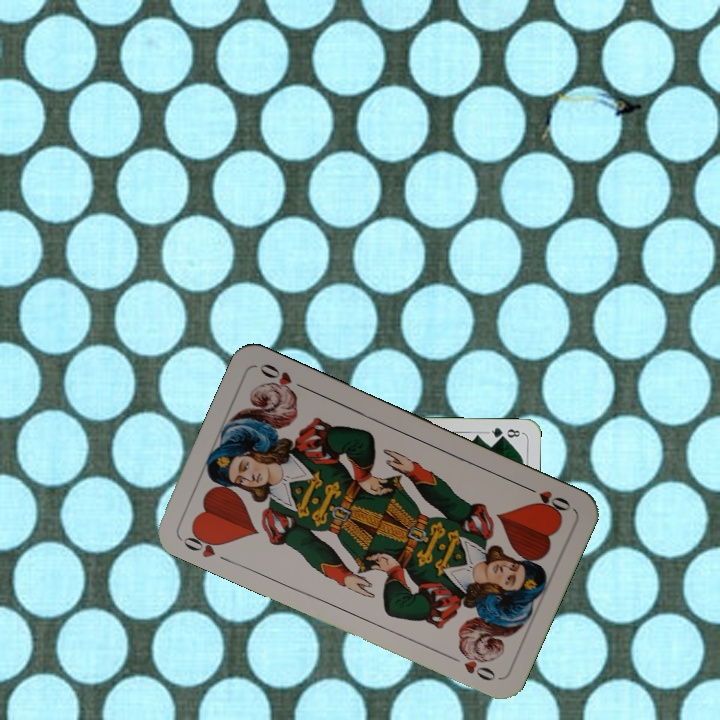G8: (484, 423, 525, 441)
HO: (179, 525, 233, 566), (519, 481, 574, 516)
